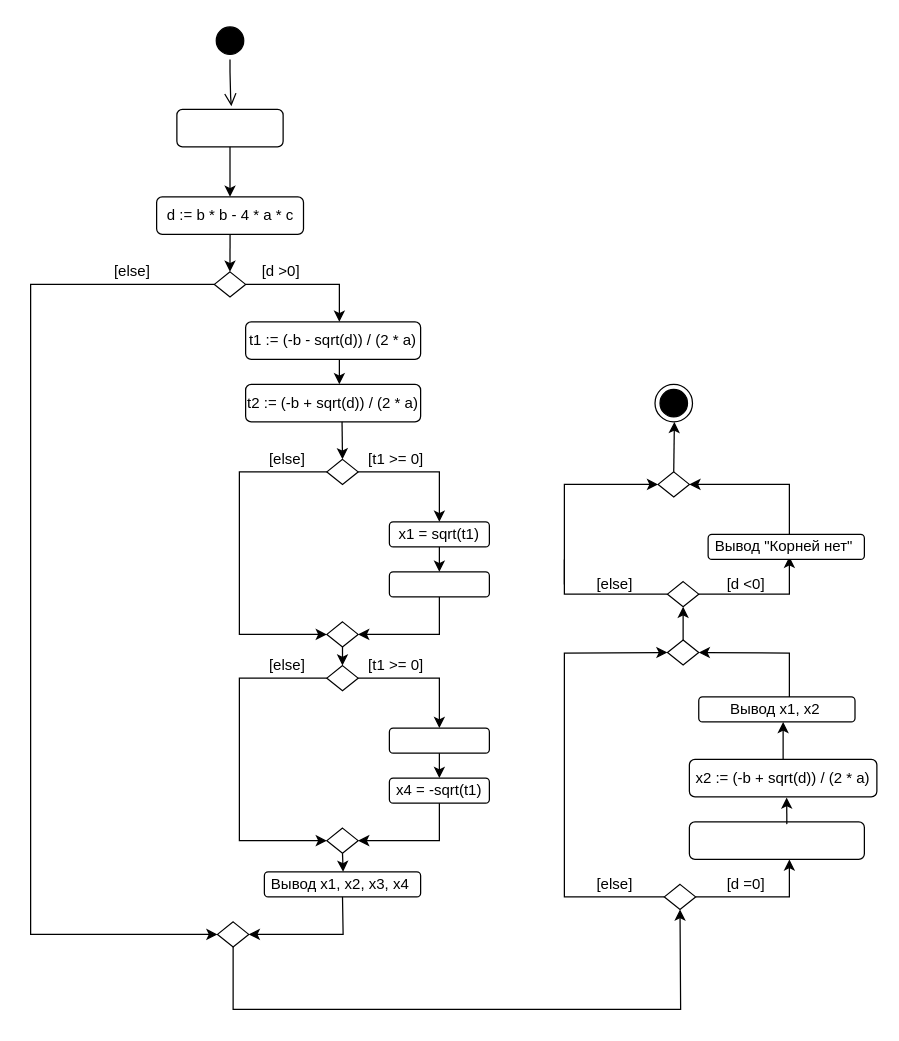
The diagram is 899 pixels wide and 1041 high, and some of its shapes have lost their labels. Each missing label, with the centre of its shape:
x1 := (-b - sqrt(d)) / (2 * a): pixel 776 840
x2 = -sqrt(t1): pixel 438 584
x3 = sqrt(t1): pixel 438 740
Ввод a, b, c: pixel 229 127
